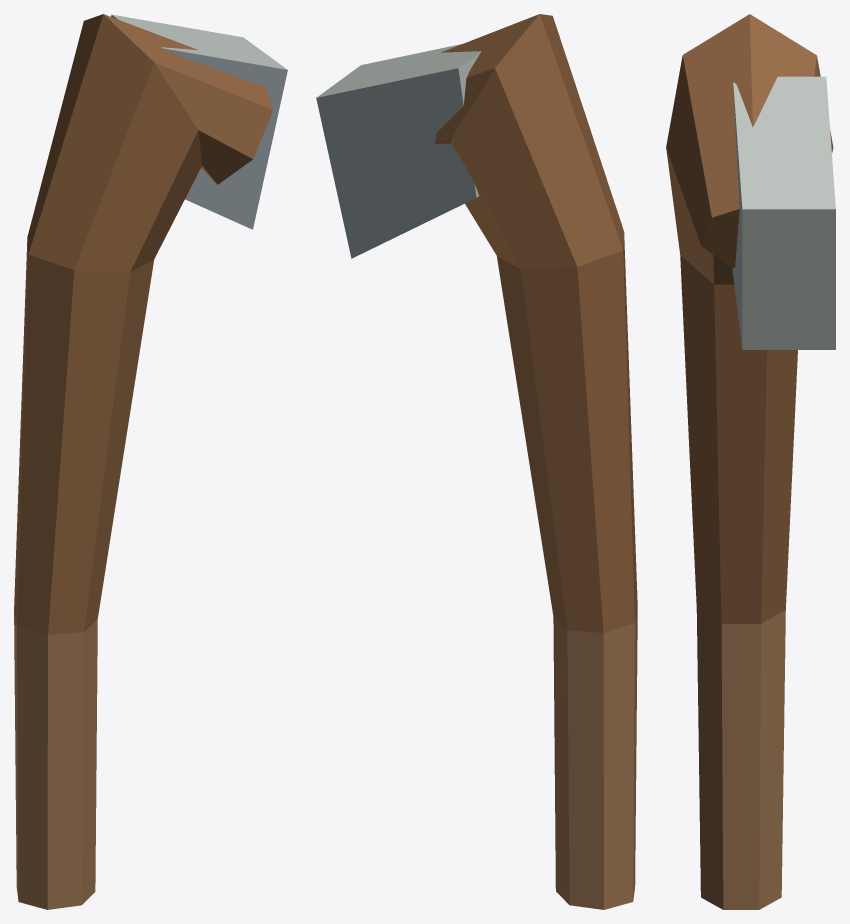
The model's file is hooked_club.glb.
3 renders of one model, left to right at view 1: azimuth 30°, elevation 25°; view 2: azimuth 150°, elevation 25°; view 3: azimuth 270°, elevation 25°, orthographic. The views are drawn at different scales.
Visible parts, largest first — view 1: hooked_club; view 2: hooked_club; view 3: hooked_club.
Part boxes in pixels (x1,y1,x2,y2): hooked_club: (14, 14, 287, 909); hooked_club: (316, 14, 637, 909); hooked_club: (666, 14, 835, 909).
Bounding box in the file's own units: 0.3099 × 0.9414 × 0.1598.
